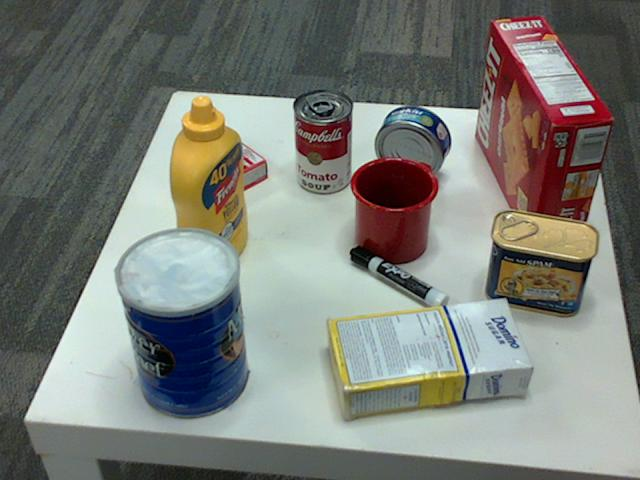cracker_box: (475, 14, 613, 244)
gelatin_box: (170, 130, 267, 204)
large_marker: (350, 247, 448, 316)
master_chef_can: (112, 229, 247, 421)
mug: (347, 155, 437, 262)
mustard_bottle: (167, 95, 247, 277)
potted_meat_can: (483, 210, 597, 316)
sugar_box: (323, 297, 530, 417)
tomato_soup_can: (292, 89, 352, 194)
tuna_fish_can: (373, 105, 449, 180)
